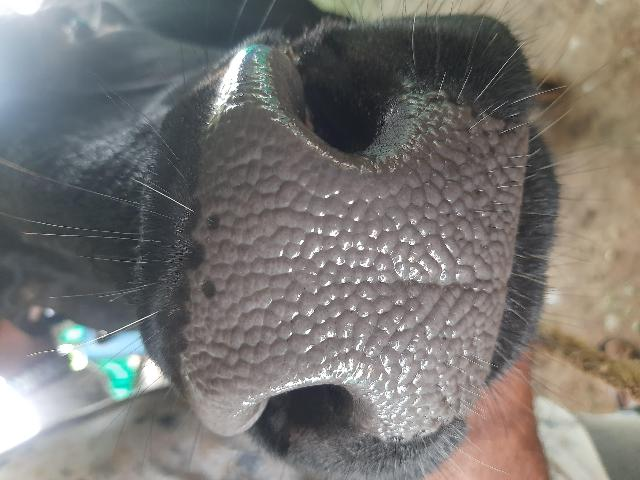Muzzle: (207, 126, 509, 384)
